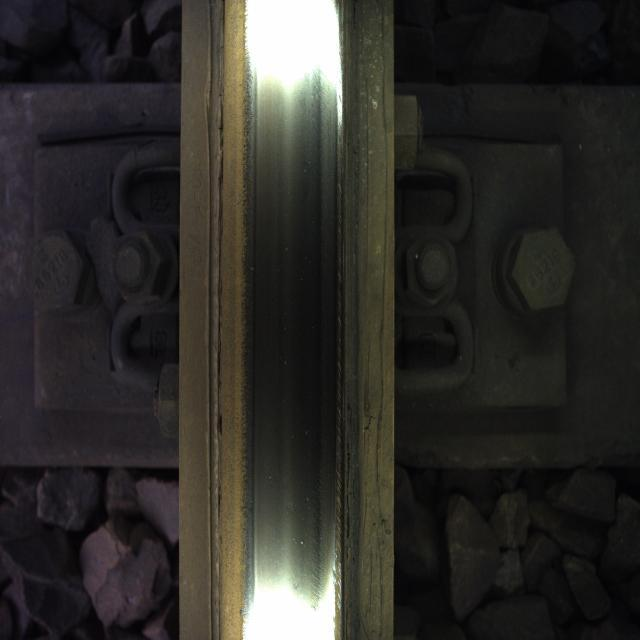normal: (249, 10, 335, 636)
